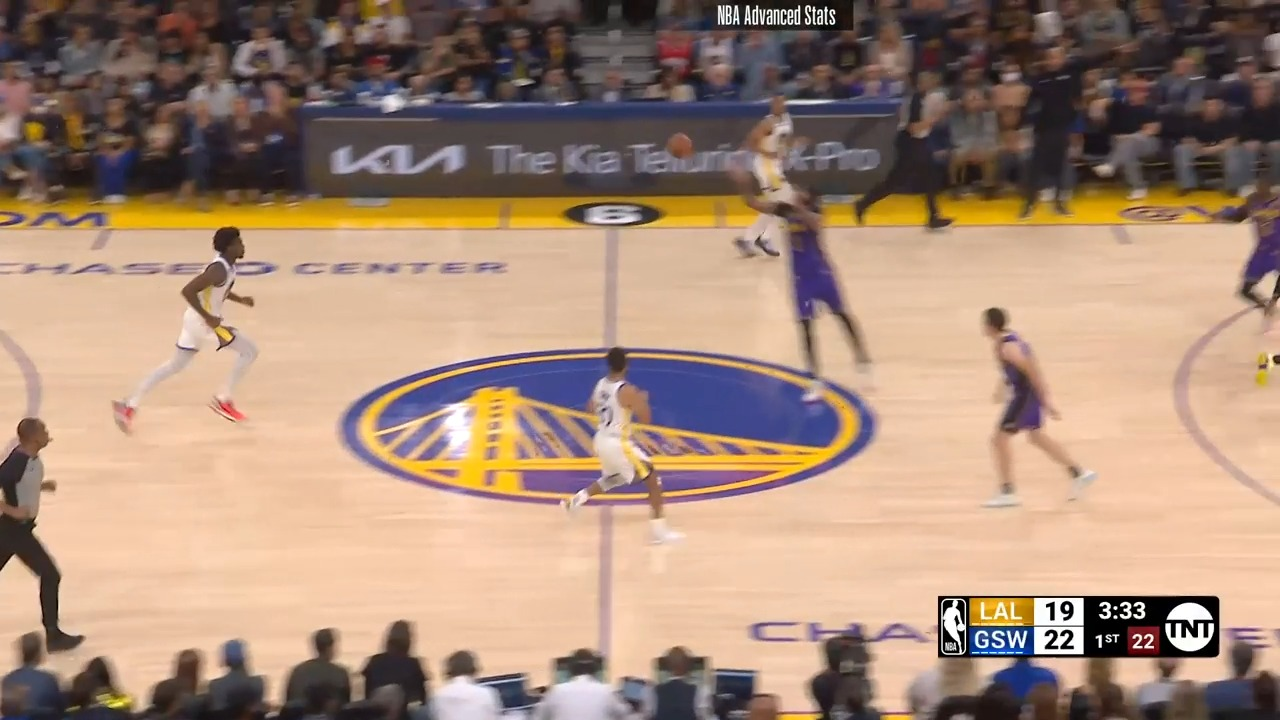player: (731, 172, 887, 453), (112, 226, 273, 437), (977, 303, 1104, 510), (560, 340, 677, 553), (731, 92, 801, 272), (1213, 170, 1280, 308), (1246, 194, 1280, 401)
referee: (0, 409, 77, 657), (845, 74, 961, 236)
